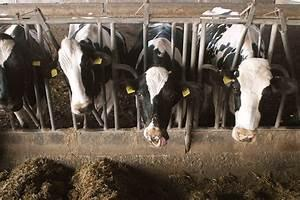cow: (203, 40, 296, 148), (46, 31, 133, 128), (139, 31, 200, 156), (0, 25, 57, 122)
